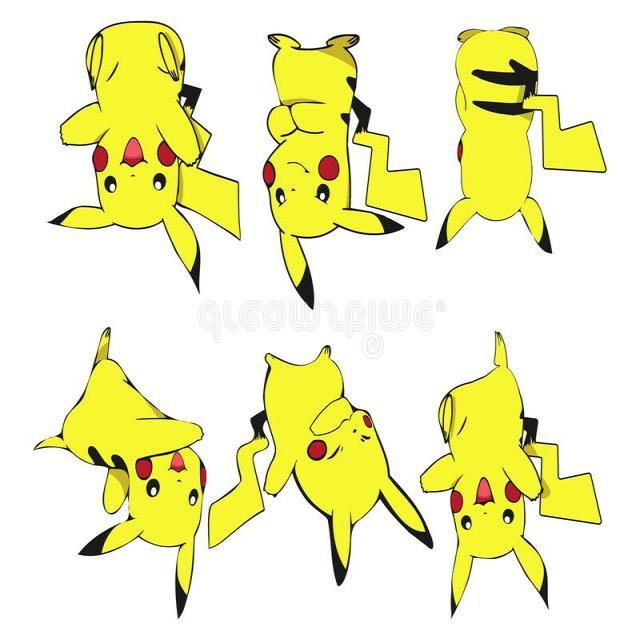Pikachu: (20, 4, 624, 596)
